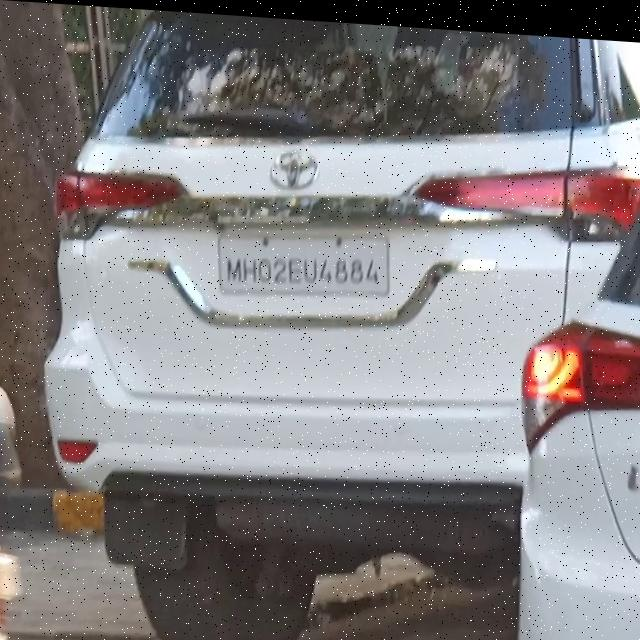plate: (213, 221, 390, 301)
